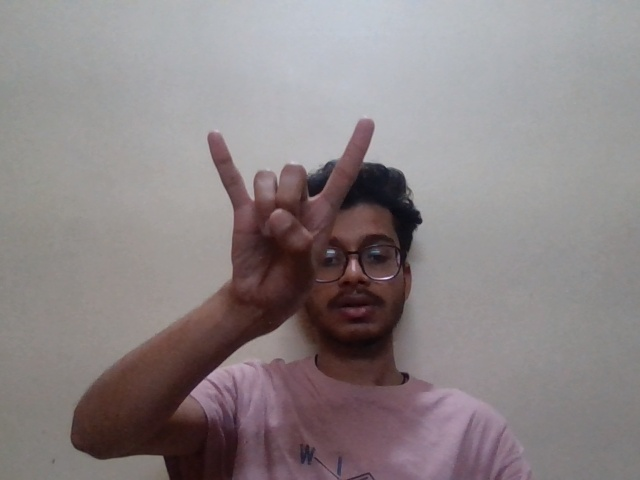i-love-you: (197, 114, 382, 296)
